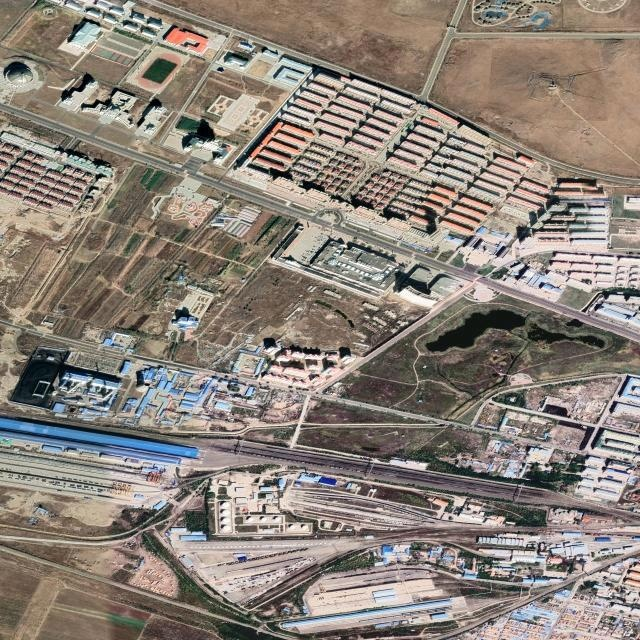coal_fired_power_plant: (8, 343, 255, 428)
